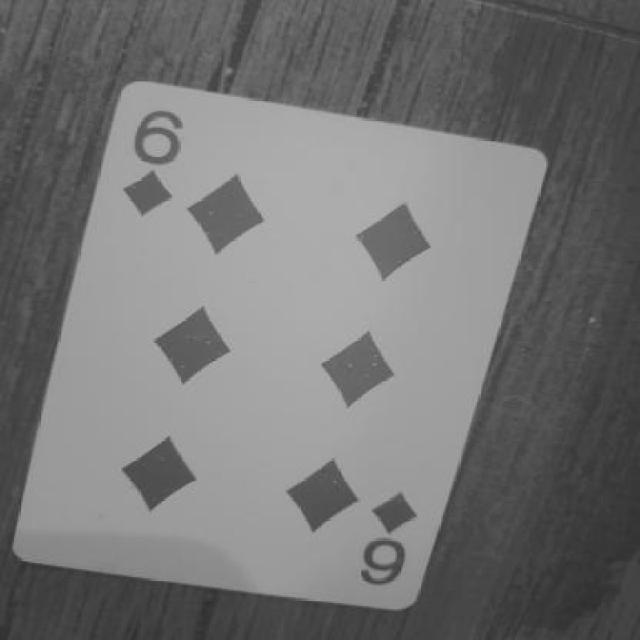6D: (342, 482, 468, 592), (116, 105, 186, 227)
